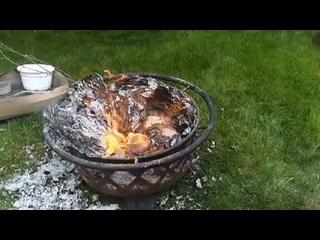Fire: (97, 99, 150, 152)
